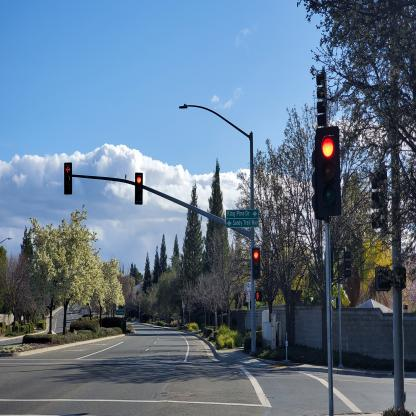left-red: (64, 162, 72, 194)
red: (317, 129, 340, 212), (135, 172, 142, 204), (253, 248, 260, 279)
